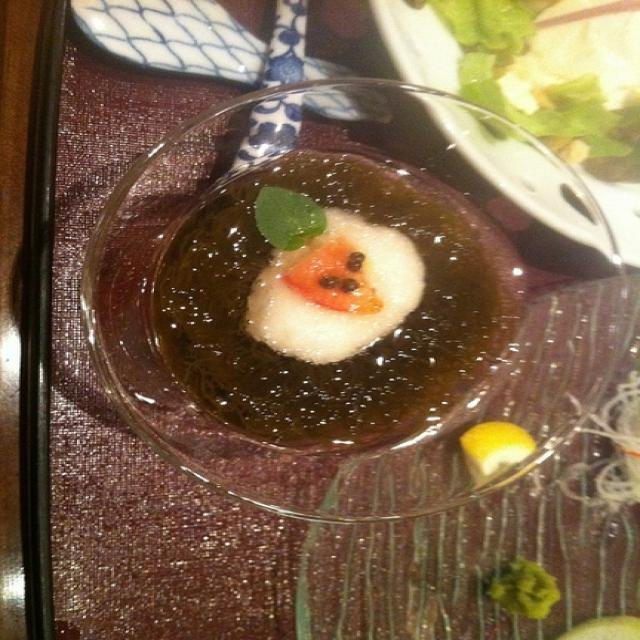蔬菜料理: (104, 103, 572, 527)
